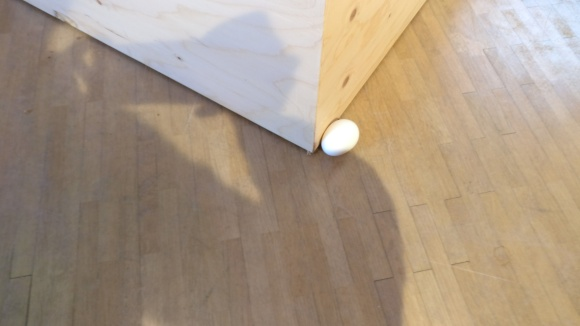egg: (320, 116, 361, 156)
